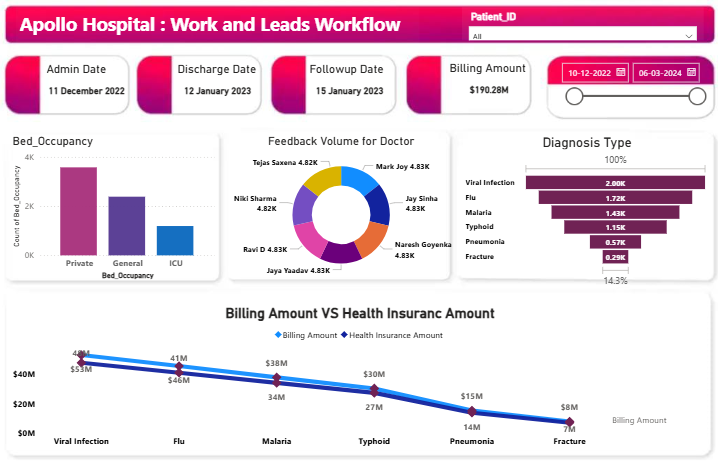

What the dashboard file says about the page in this screenshot:
{"tool":"powerbi","page":{"name":"Page 1","canvas":[1280,720],"ordinal":0},"visuals":[{"type":"textbox","box":[144.3,35.7,581.4,52.9],"z":0},{"type":"slicer","fields":{"Values":["Sheet1.Patient_ID"]},"box":[786.2,36,348.5,47.5],"z":1000},{"type":"card","title":"Admin Date","fields":{"Values":["Sheet1.Admit_Date"]},"box":[182.2,115.6,125.6,66.7],"z":2000},{"type":"card","title":"Discharge Date","fields":{"Values":["Sheet1.Discharge_Date"]},"box":[372.2,115.6,125.6,66.7],"z":3000},{"type":"card","title":"Followup Date","fields":{"Values":["Sheet1.Followup Date"]},"box":[562.2,115.6,125.6,66.7],"z":4000},{"type":"card","title":"Billing Amount","fields":{"Values":["Sheet1.Billing Amount"]},"box":[762.9,114.3,124.3,67.1],"z":5000},{"type":"slicer","fields":{"Values":["Sheet1.Admit_Date"]},"box":[917.1,107.1,228.6,81.4],"z":6000},{"type":"columnChart","title":" Bed_Occupancy","fields":{"Category":["Sheet1.Bed_Occupancy"],"Y":["Sheet1.Bed_Occupancy"]},"box":[133.8,218.8,301.2,213.8],"z":7000},{"type":"donutChart","title":" Feedback Volume for  Doctor","fields":{"Y":["Sheet1.Feedback"],"Category":["Sheet1.Doctor"]},"box":[447.5,218.8,328.8,213.8],"z":8000},{"type":"funnel","title":" Diagnosis Type","fields":{"Category":["Sheet1.Diagnosis"],"Y":["Sheet1.Diagnosis"]},"box":[785.6,218.9,360,224.4],"z":9000},{"type":"lineChart","title":"BiIling Amount VS Health Insuranc Amount","fields":{"Y":["Sheet1.Billing Amount","Sheet1.Health Insurance Amount"],"Category":["Sheet1.Diagnosis"]},"box":[133.8,465,1011.2,213.8],"z":10000}]}

Visuals, with their boxes on the page's 1280x720 design canvas (x1, y1, x2, y2). These are canvas units, not pixel positions in the 718x461 screenshot, which may show the page scaled, cropped or inside an application window:
textbox: region(144, 36, 726, 89)
slicer - Sheet1.Patient_ID: region(786, 36, 1135, 84)
"Admin Date" card: region(182, 116, 308, 182)
"Discharge Date" card: region(372, 116, 498, 182)
"Followup Date" card: region(562, 116, 688, 182)
"Billing Amount" card: region(763, 114, 887, 181)
slicer - Sheet1.Admit_Date: region(917, 107, 1146, 188)
" Bed_Occupancy" columnChart: region(134, 219, 435, 433)
" Feedback Volume for  Doctor" donutChart: region(448, 219, 776, 433)
" Diagnosis Type" funnel: region(786, 219, 1146, 443)
"BiIling Amount VS Health Insuranc Amount" lineChart: region(134, 465, 1145, 679)
